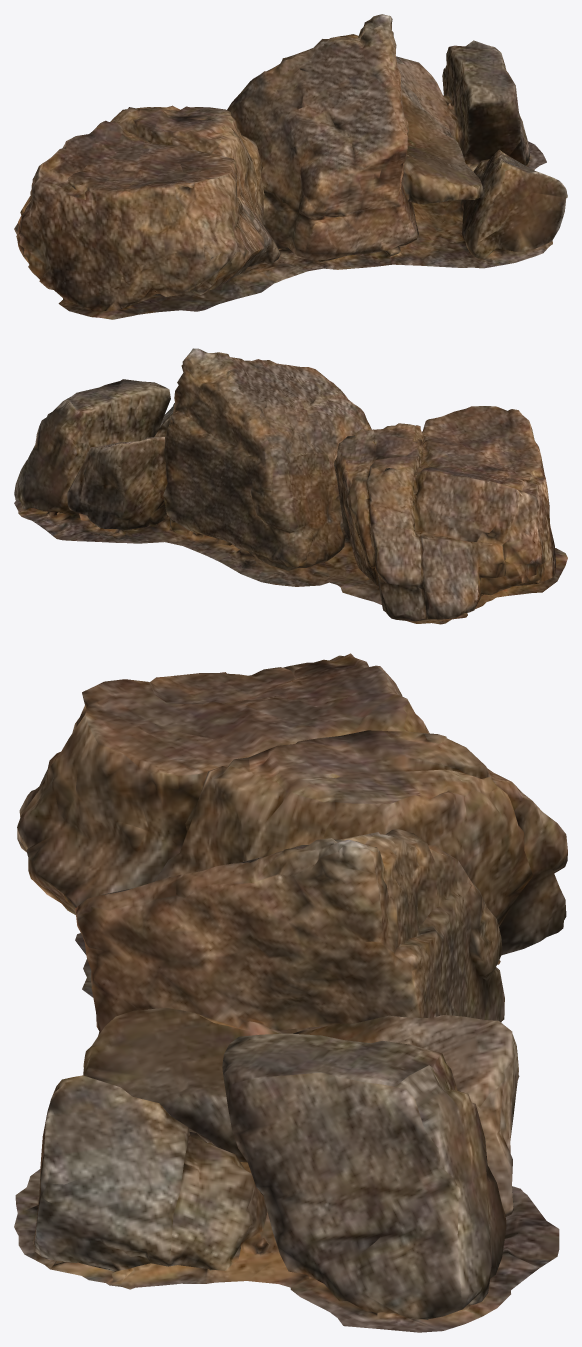
File: boulder2.glb
3 renders of one model, top to bottom at view 1: azimuth 30°, elevation 25°; view 2: azimuth 150°, elevation 25°; view 3: azimuth 270°, elevation 25°, orthographic. The views are drawn at different scales.
Parts seen in each view (by area): view 1: boulder_02; view 2: boulder_02; view 3: boulder_02.
Part boxes in pixels (x1,y1,x2,y2): boulder_02: (14, 14, 567, 319); boulder_02: (14, 348, 567, 624); boulder_02: (14, 653, 567, 1332).
Size of the model in its own units: 2.53 by 0.8806 by 1.23.
Materials: 1 (1 with a texture image).
